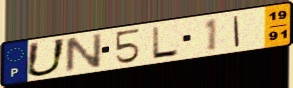1: (203, 16, 219, 53)
5: (114, 27, 143, 65)
I: (233, 14, 242, 48)
L: (150, 25, 181, 60)
N: (62, 31, 104, 75)
U: (23, 37, 69, 78)
